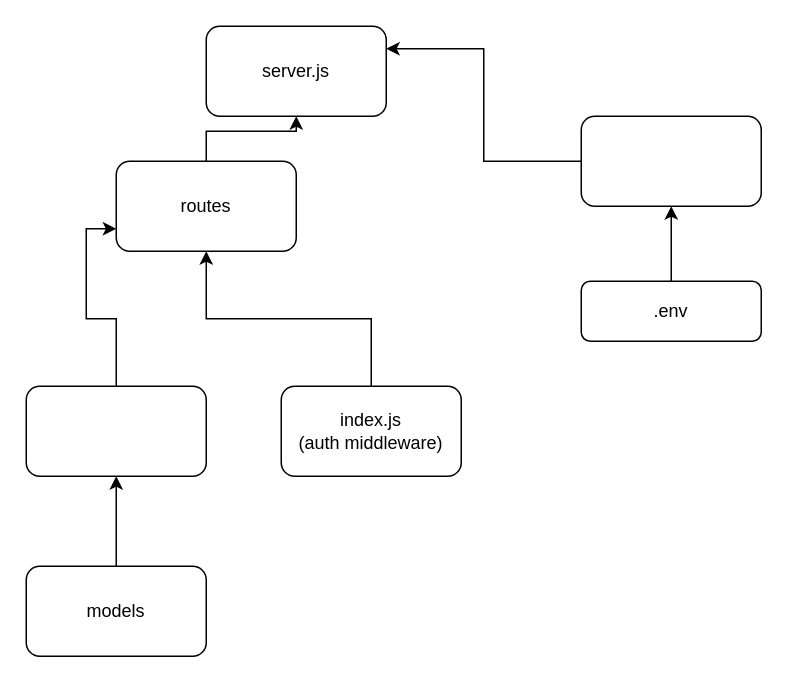
Some shapes in this 788 by 683 pixel diagram are drawn without their labels. Each missing label, with the centre of its shape:
"connection" belongs at point (670, 160).
"Controllers" belongs at point (115, 430).
